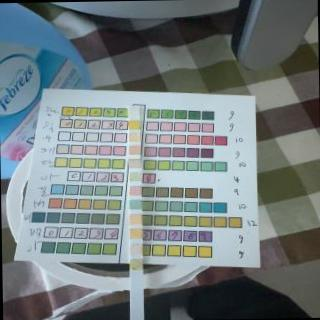mark: (130, 245, 142, 255), (130, 229, 142, 239), (128, 214, 140, 224), (132, 259, 142, 270), (130, 199, 141, 209), (130, 186, 140, 196), (128, 108, 140, 116), (130, 133, 140, 142), (129, 121, 140, 129), (130, 172, 140, 180), (130, 160, 140, 168), (130, 148, 140, 154)
